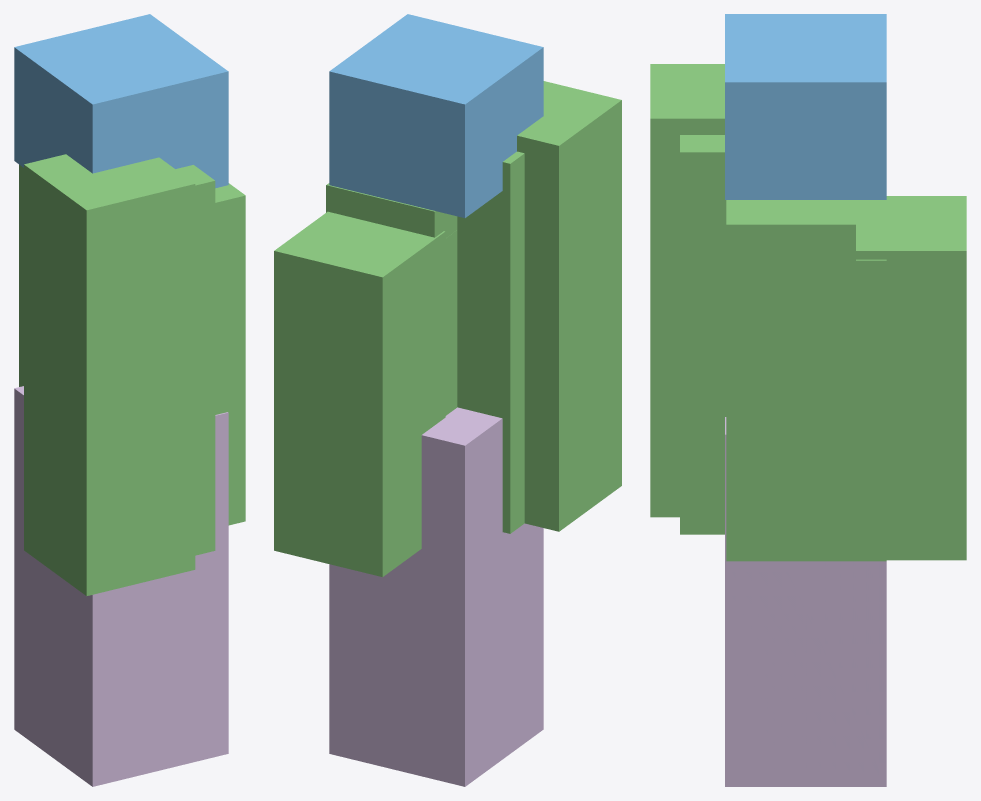
File: Item_Herb_AMF_Dewclaw_Bundle4.glb
3 views of the same model, side by side, from view 1: azimuth 30°, elevation 25°; view 2: azimuth 150°, elevation 25°; view 3: azimuth 270°, elevation 25° (orthographic). The views are drawn at different scales.
Parts seen in each view (by area): view 1: Item_Herb_AMF_Dewclaw_Bundle4; view 2: Item_Herb_AMF_Dewclaw_Bundle4; view 3: Item_Herb_AMF_Dewclaw_Bundle4.
Part boxes in pixels (<box>): Item_Herb_AMF_Dewclaw_Bundle4: <box>14,14,245,786</box>; Item_Herb_AMF_Dewclaw_Bundle4: <box>274,14,621,786</box>; Item_Herb_AMF_Dewclaw_Bundle4: <box>650,14,966,786</box>.
Bounding box in the file's own units: 0.0722 × 0.24 × 0.0978.
